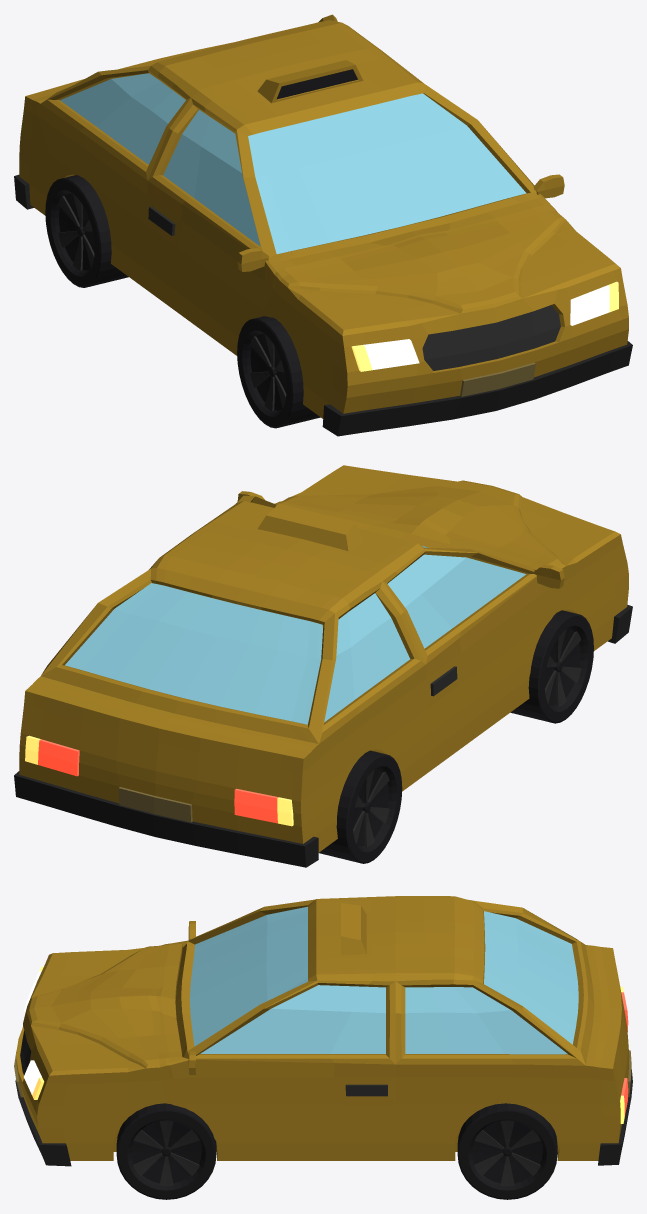
File: Taxi.fbx
The picture shows the model from 3 angles, top to bottom: view 1: azimuth 30°, elevation 25°; view 2: azimuth 150°, elevation 25°; view 3: azimuth 270°, elevation 25°; orthographic projection. The views are drawn at different scales.
Visible parts, largest first — view 1: Taxi, Taxi_Wheel4, Taxi_Wheel1; view 2: Taxi, Taxi_Wheel4, Taxi_Wheel1; view 3: Taxi, Taxi_Wheel3, Taxi_Wheel2.
Boxes of the visible parts, x1,y1,x2,y2 form: Taxi: (14, 14, 632, 436); Taxi_Wheel4: (45, 175, 128, 287); Taxi_Wheel1: (237, 316, 320, 428); Taxi: (14, 465, 632, 867); Taxi_Wheel4: (319, 750, 402, 863); Taxi_Wheel1: (510, 610, 593, 723); Taxi: (14, 896, 632, 1166); Taxi_Wheel3: (457, 1103, 557, 1199); Taxi_Wheel2: (116, 1103, 216, 1199).
Bounding box in the file's own units: 2.21 × 1.58 × 4.13.
